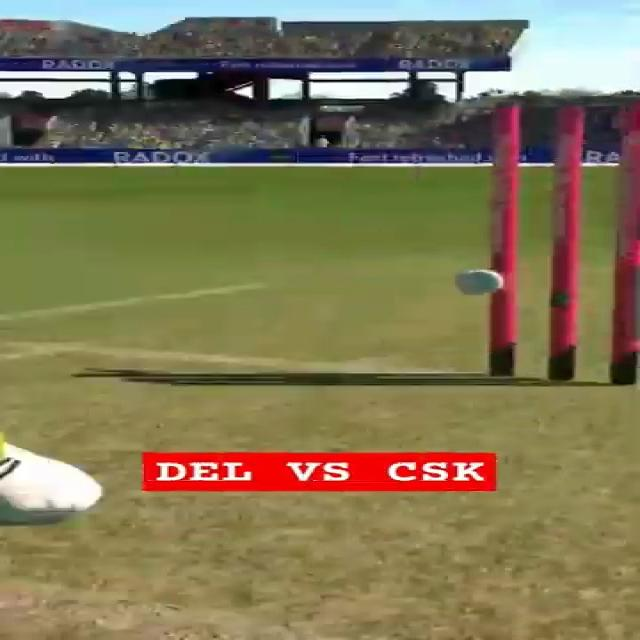ball: (453, 268, 501, 294)
